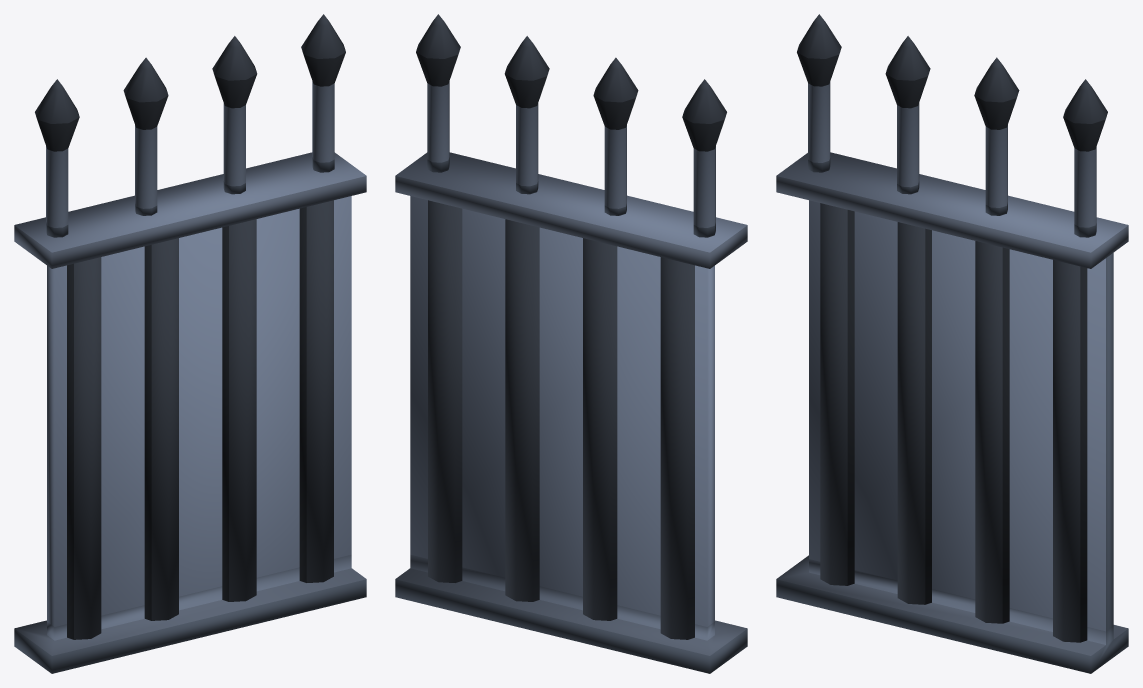
File: Porta.fbx
The picture shows the model from 3 angles, left to right: view 1: azimuth 30°, elevation 25°; view 2: azimuth 150°, elevation 25°; view 3: azimuth 330°, elevation 25°; orthographic projection.
Visible parts, largest first — view 1: Cube.004; view 2: Cube.004; view 3: Cube.004.
Part boxes in pixels (x1,y1,x2,y2): Cube.004: (14, 14, 366, 673); Cube.004: (395, 14, 747, 673); Cube.004: (776, 14, 1128, 673).
Bounding box in the file's own units: 536 × 936 × 111.
1 material, 1 textured.
